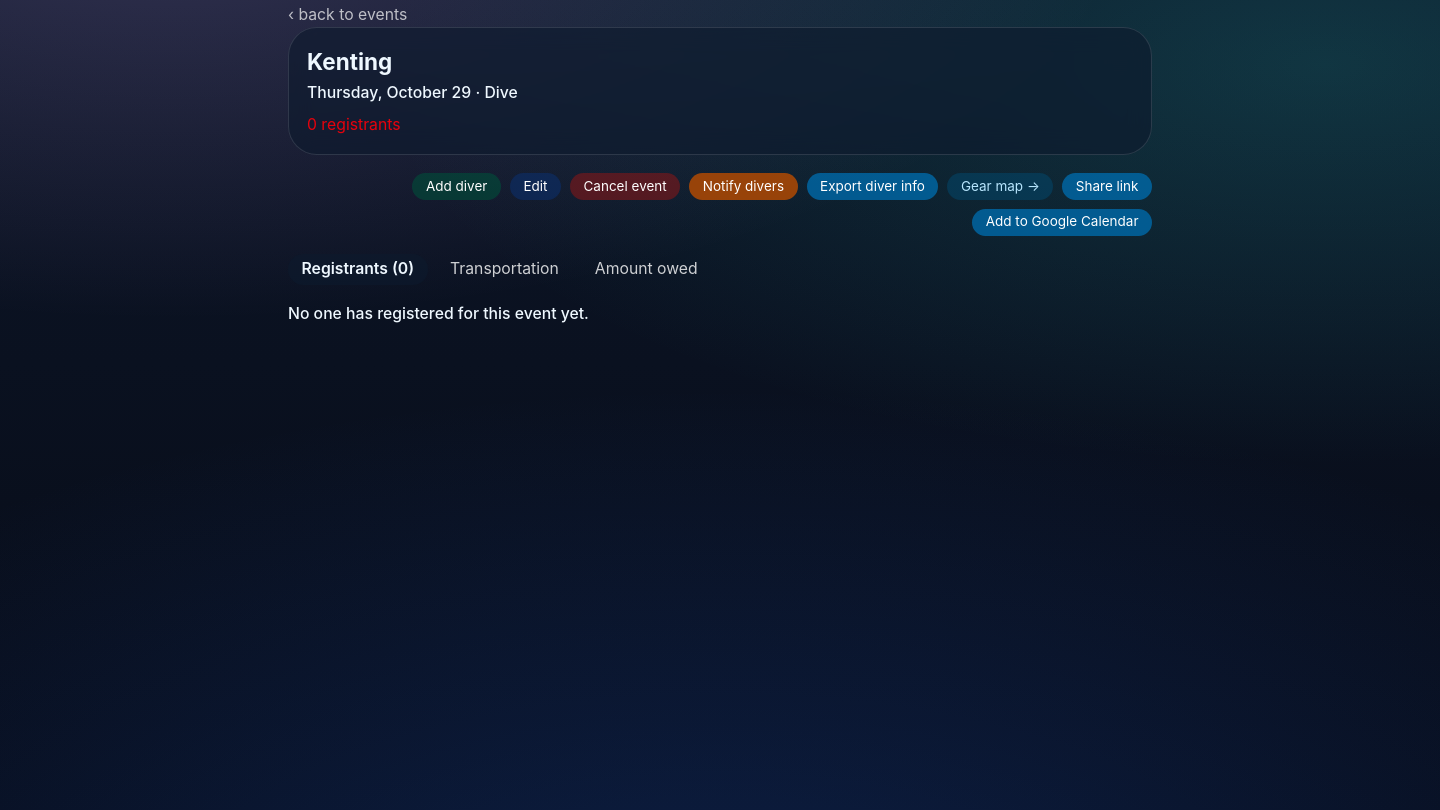
Test case: AdminEventDetailPage › cancels an event via the confirmation modal and updates events.cancelled_at
The width and height of the screenshot is (1440, 810).
Expected: the heading "Kenting" is shown, x1=307 y1=48 x2=392 y2=75
Click the button "Cancel event". click: (625, 186)
box: x1=570 y1=173 x2=680 y2=200
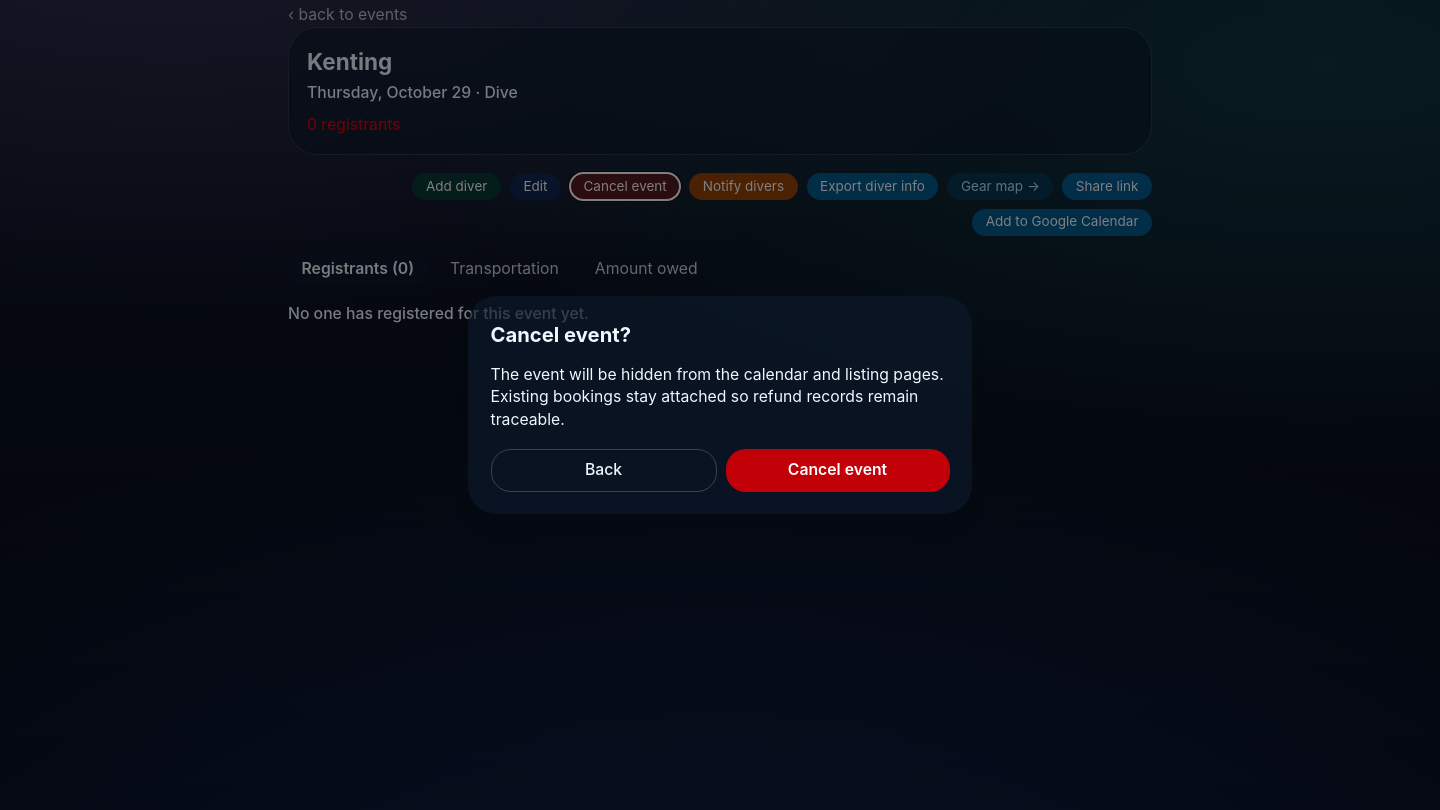
Now the dialog is shown
Click the button "Cancel event". click: (838, 470)
box: x1=726 y1=449 x2=950 y2=492
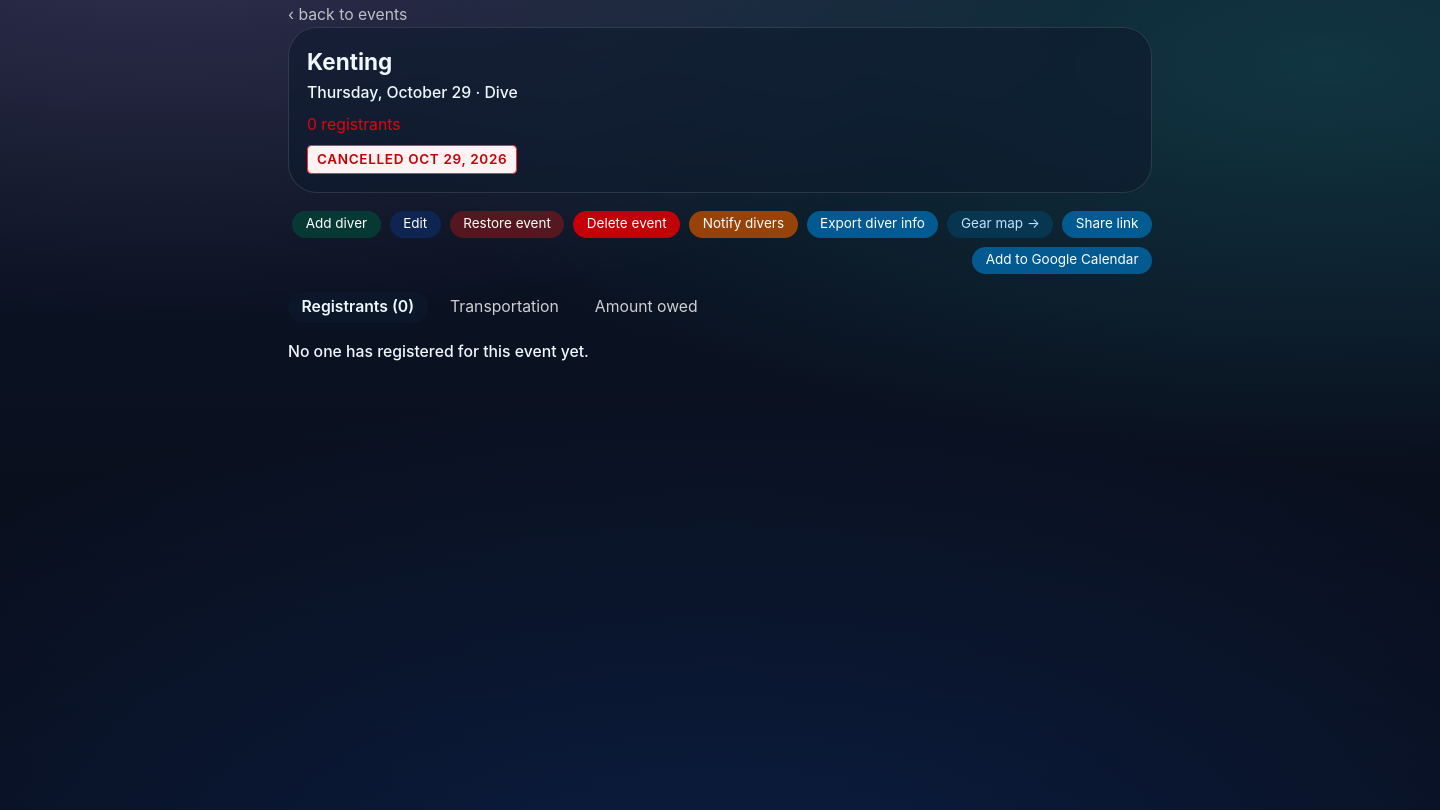
Now the dialog is gone
Now the text "Cancelled Oct 29, 2026" is shown, box x1=307 y1=145 x2=517 y2=174
